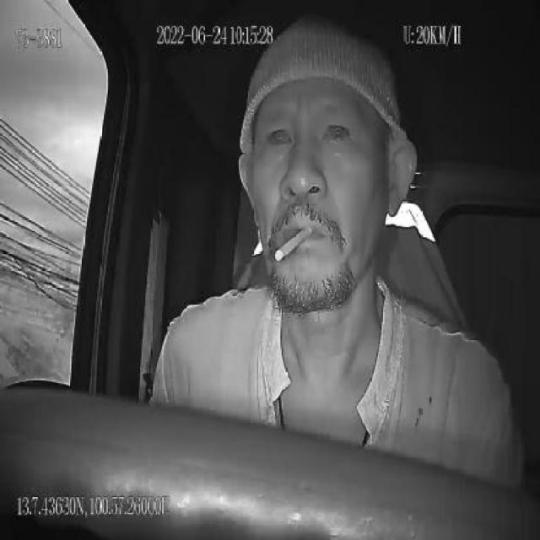smoking: (274, 224, 314, 263)
